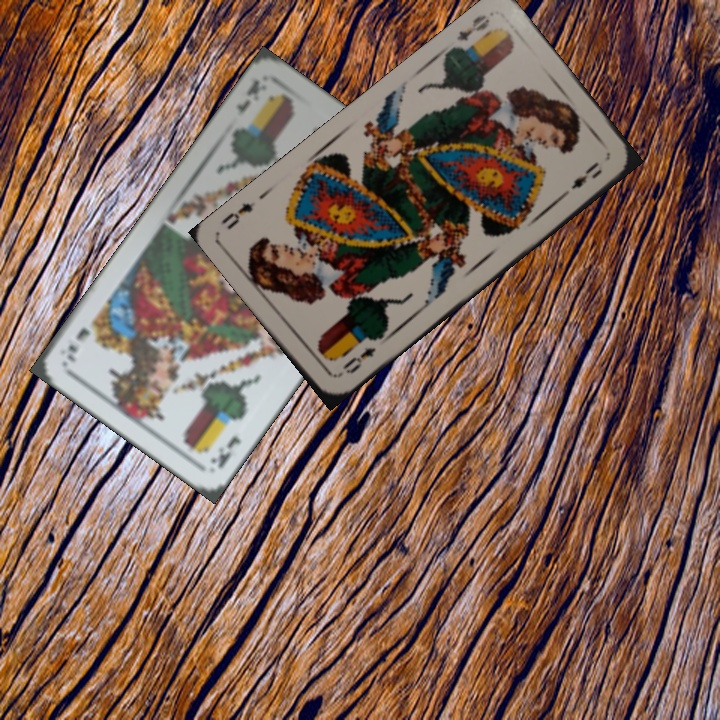EK: (206, 431, 245, 471), (231, 75, 262, 119)
EO: (338, 343, 379, 377), (452, 10, 493, 44)
